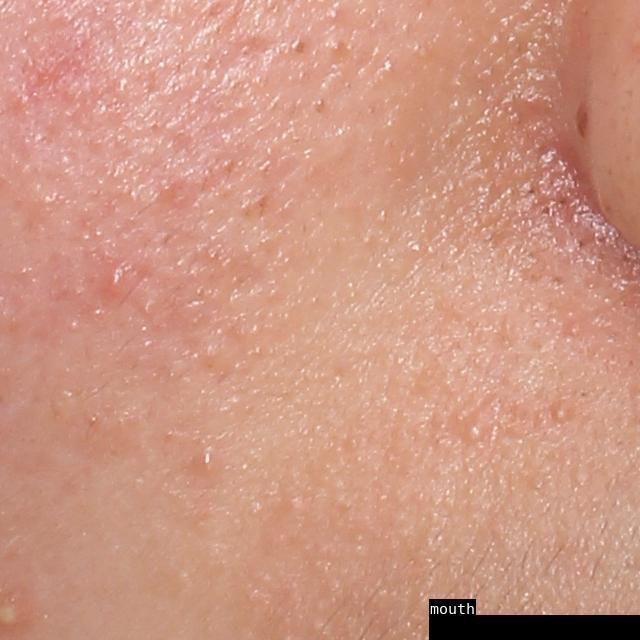comedo: (460, 409, 492, 444), (193, 445, 221, 478), (551, 401, 573, 424)
